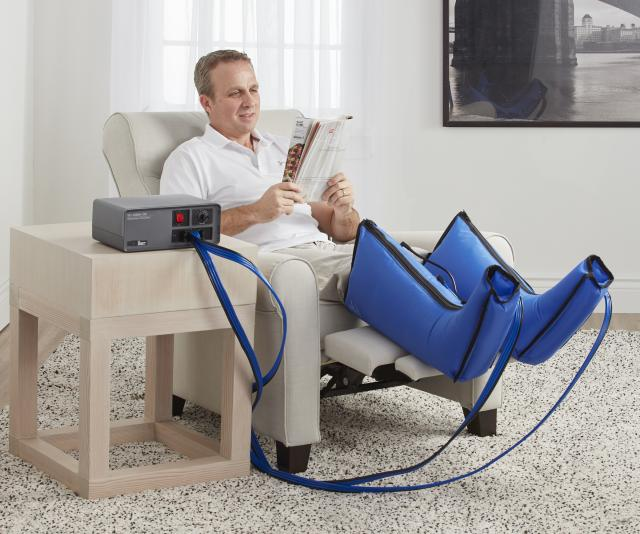patient: (159, 48, 612, 382)
sequential_compression: (91, 191, 614, 495)
sofa: (102, 110, 516, 473)
table: (10, 216, 260, 495)
